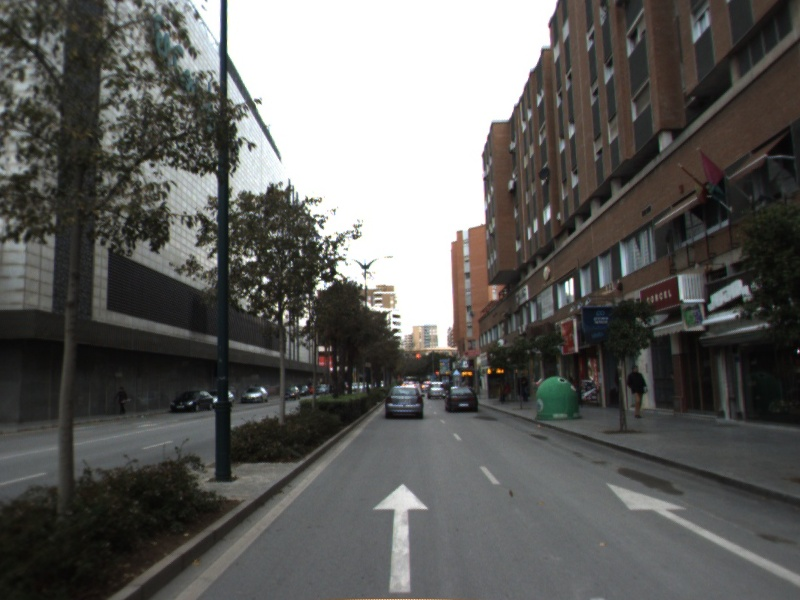STRAIGHT: (603, 479, 800, 588), (370, 480, 432, 595)
